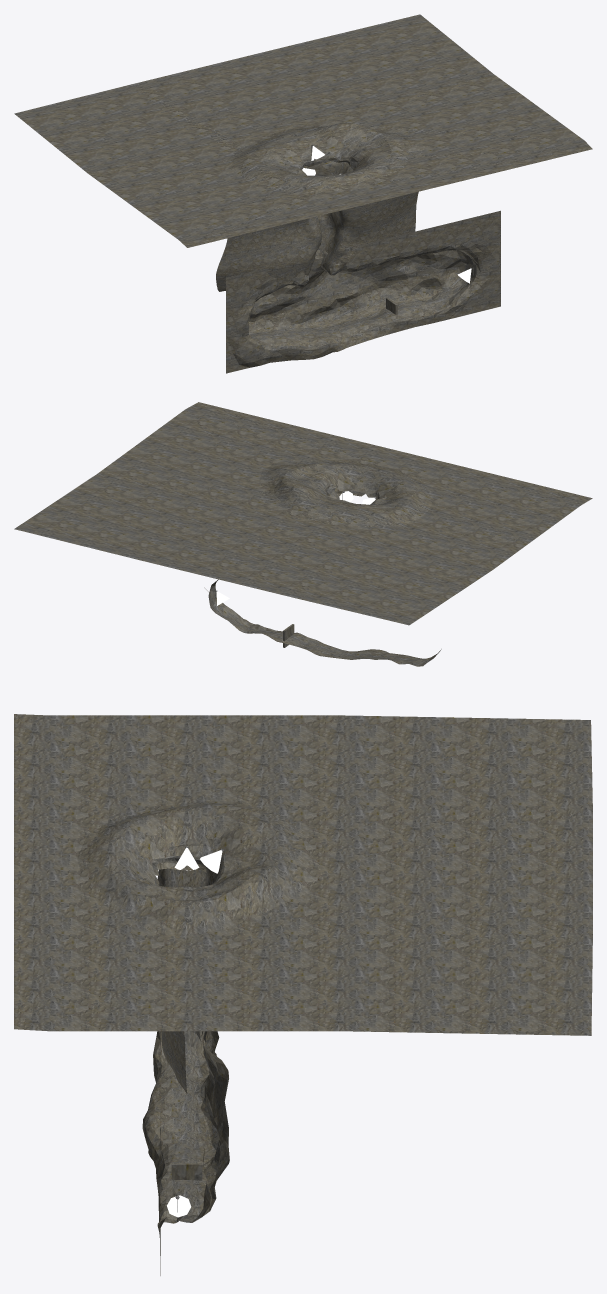
File: map1.glb
3 views of the same model, one above another, from view 1: azimuth 30°, elevation 25°; view 2: azimuth 150°, elevation 25°; view 3: azimuth 270°, elevation 25° (orthographic). The views are drawn at different scales.
Visible parts, largest first — view 1: surface, cave, tunnel; view 2: surface, cave; view 3: surface, cave, tunnel.
Part boxes in pixels (x1=…): surface: x1=14, y1=14, x2=592, y2=247; cave: x1=226, y1=210, x2=500, y2=373; tunnel: x1=216, y1=149, x2=418, y2=291; surface: x1=14, y1=402, x2=592, y2=625; cave: x1=204, y1=579, x2=441, y2=666; surface: x1=14, y1=714, x2=592, y2=1035; cave: x1=142, y1=1031, x2=229, y2=1275; tunnel: x1=157, y1=862, x2=218, y2=1093.
Size of what is drawn, in the model's own units: 452 by 203 by 344.
Materials: 3 (2 with a texture image).
